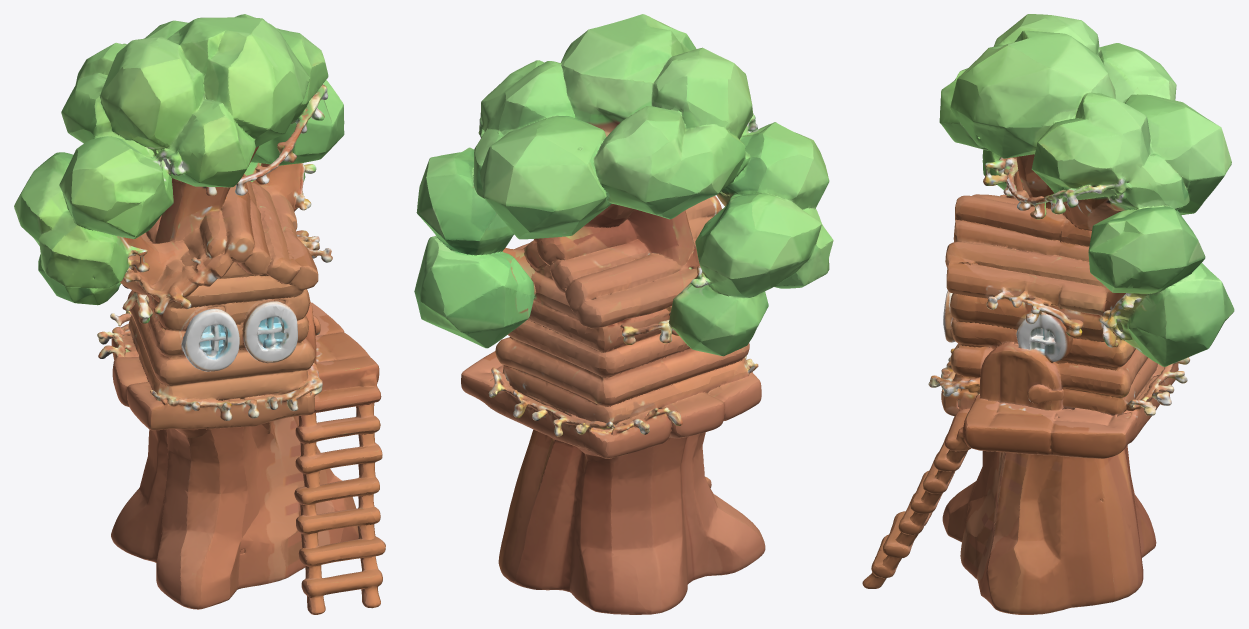
Rendered from bld_treehouse.glb.
3 renders of one model, left to right at view 1: azimuth 30°, elevation 25°; view 2: azimuth 150°, elevation 25°; view 3: azimuth 270°, elevation 25°, orthographic. The views are drawn at different scales.
Visible parts, largest first — view 1: geometry_0; view 2: geometry_0; view 3: geometry_0.
Part boxes in pixels (x1,y1,x2,y2): geometry_0: (14, 14, 385, 614); geometry_0: (414, 14, 833, 614); geometry_0: (862, 14, 1234, 614).
Size of the model in its own units: 0.3083 by 0.45 by 0.2934.
1 material, 1 textured.
